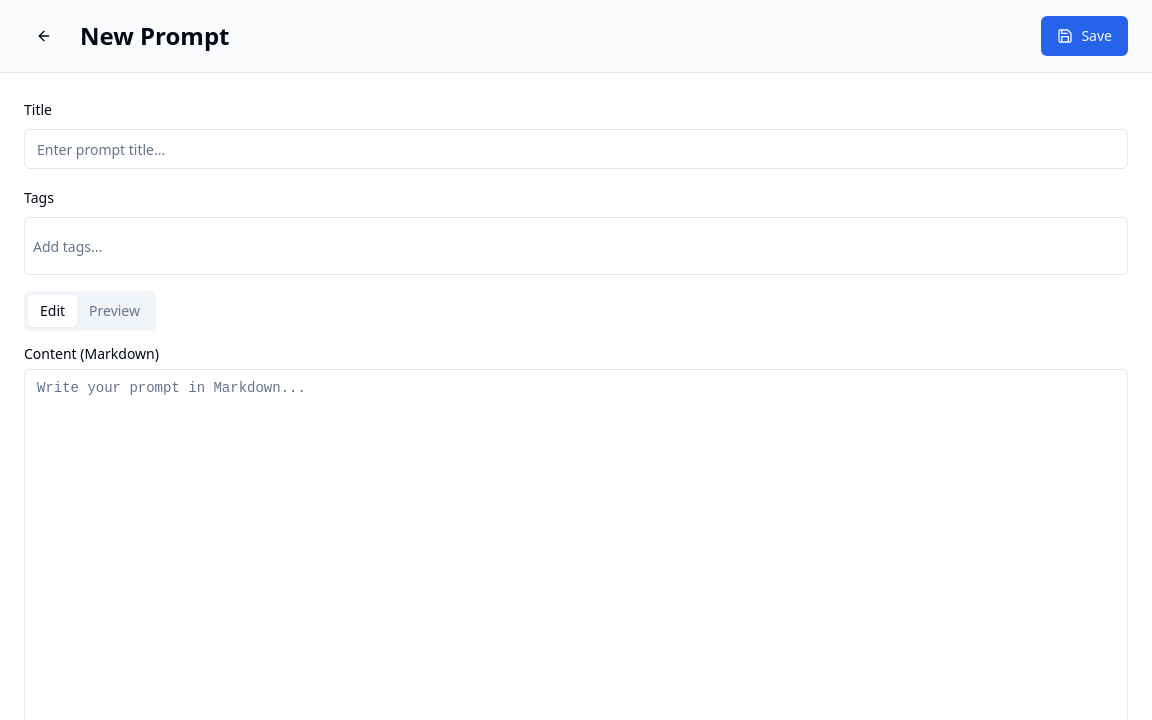
Test: PromptEditor › should show saving state while saving
This screenshot has width=1152, height=720.
Step 1. Type "Test" into the field labelled "Title" → (576, 149), box [24,129,1128,169]
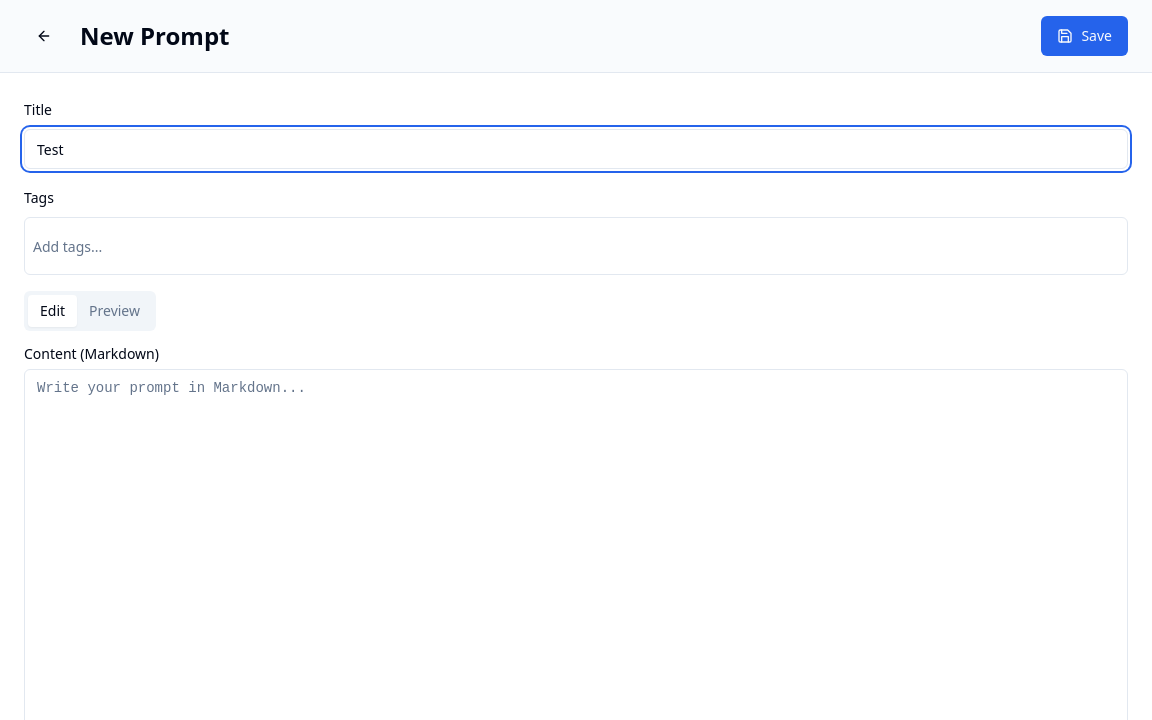
Step 2. Click the button "Save" → click(1085, 36), box [1041,16,1128,56]
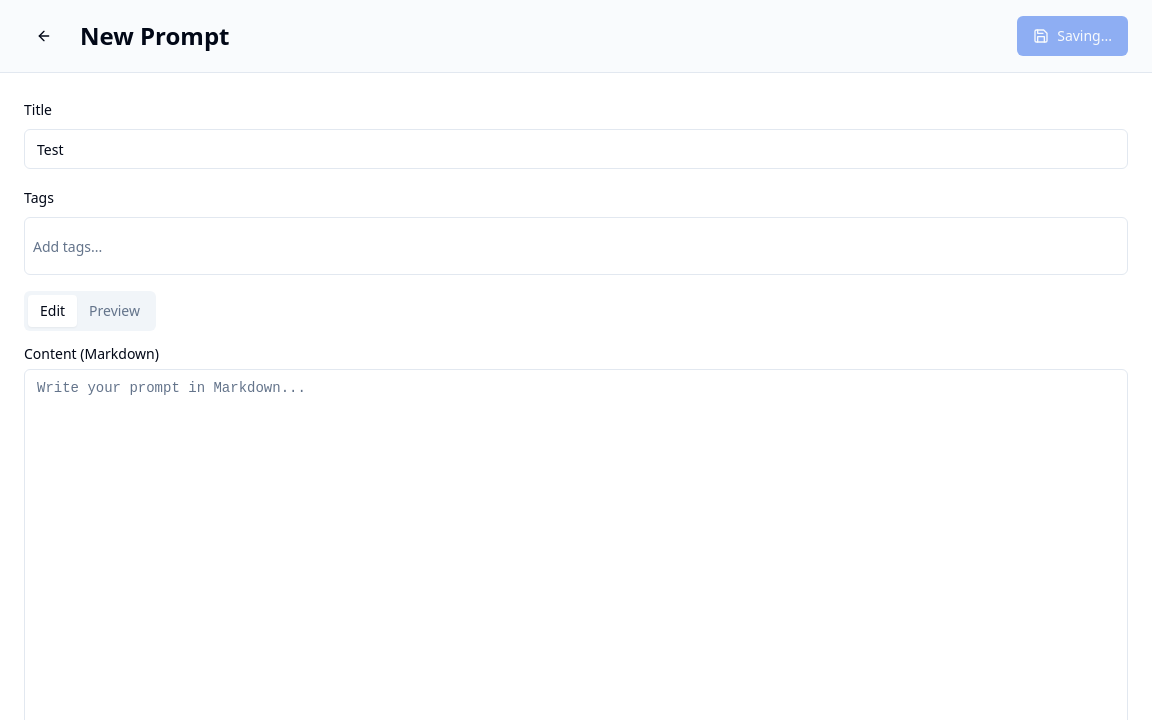
Expected: the button "Saving..." is shown, [1017,16,1128,56]
